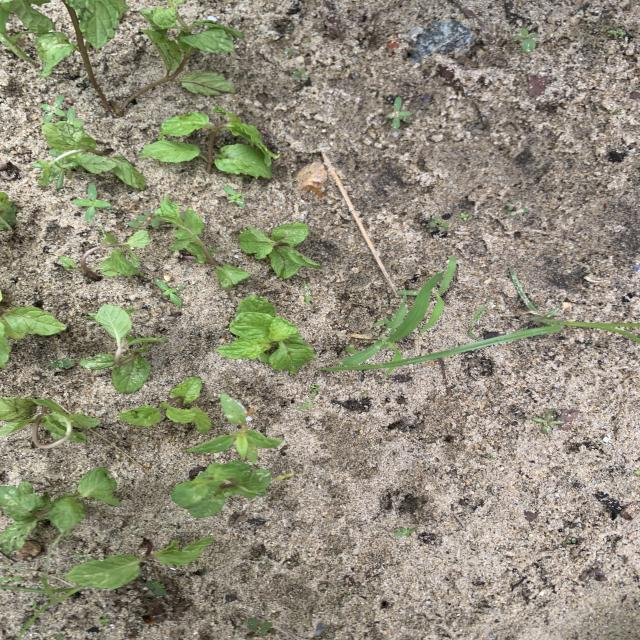crop: (97, 1, 242, 112), (0, 468, 119, 551), (2, 1, 127, 75), (144, 108, 278, 176), (156, 196, 248, 287), (31, 121, 145, 189), (218, 296, 315, 372), (67, 539, 213, 588), (82, 306, 166, 391), (118, 377, 211, 434), (173, 462, 271, 516), (0, 399, 99, 447), (61, 227, 149, 278), (240, 223, 321, 277), (1, 304, 65, 366), (1, 192, 15, 230)
weed: (320, 270, 640, 371), (342, 273, 441, 366), (189, 393, 283, 462), (0, 576, 81, 640), (420, 255, 456, 334), (74, 183, 111, 220), (49, 160, 77, 190), (385, 97, 411, 128), (532, 410, 564, 434), (156, 279, 183, 305), (468, 305, 487, 338), (513, 28, 539, 51), (42, 96, 65, 121), (130, 211, 159, 227), (429, 215, 449, 237), (246, 618, 271, 635), (225, 185, 245, 206), (67, 107, 84, 127), (147, 581, 165, 594), (298, 396, 314, 409), (394, 527, 417, 536), (50, 359, 74, 367), (303, 281, 311, 304), (273, 473, 294, 481), (292, 69, 307, 79), (608, 29, 625, 37), (0, 577, 23, 582), (458, 213, 469, 221), (100, 617, 109, 623)
